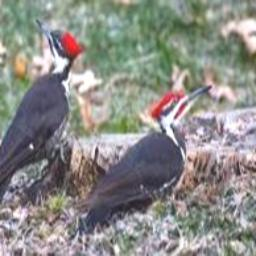Woodpecker: (71, 84, 211, 220), (0, 20, 84, 216)
